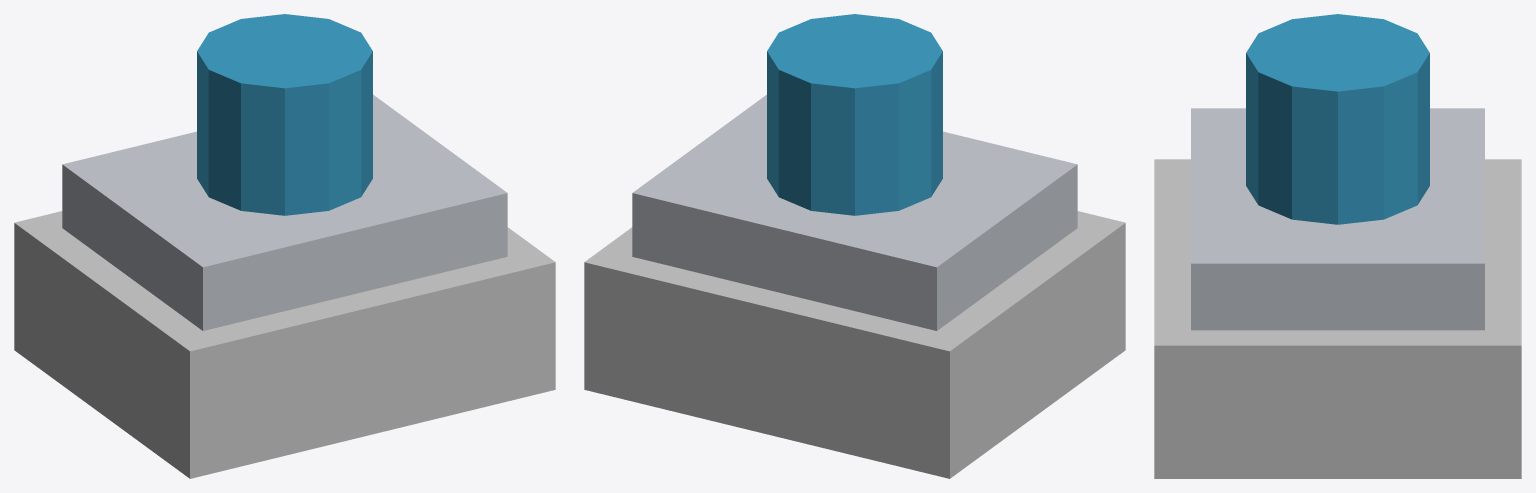
Rendered from guidance_inertial.obj.
The picture shows the model from 3 angles, left to right: view 1: azimuth 30°, elevation 25°; view 2: azimuth 150°, elevation 25°; view 3: azimuth 270°, elevation 25°; orthographic projection. The views are drawn at different scales.
Visible parts, largest first — view 1: guidance_inertial; view 2: guidance_inertial; view 3: guidance_inertial.
Boxes of the visible parts, left/top/right/bottom form: guidance_inertial: left=14, top=14, right=555, bottom=478; guidance_inertial: left=584, top=14, right=1125, bottom=478; guidance_inertial: left=1154, top=14, right=1521, bottom=478.
Size of the model in its own units: 0.24 by 0.2 by 0.2.
